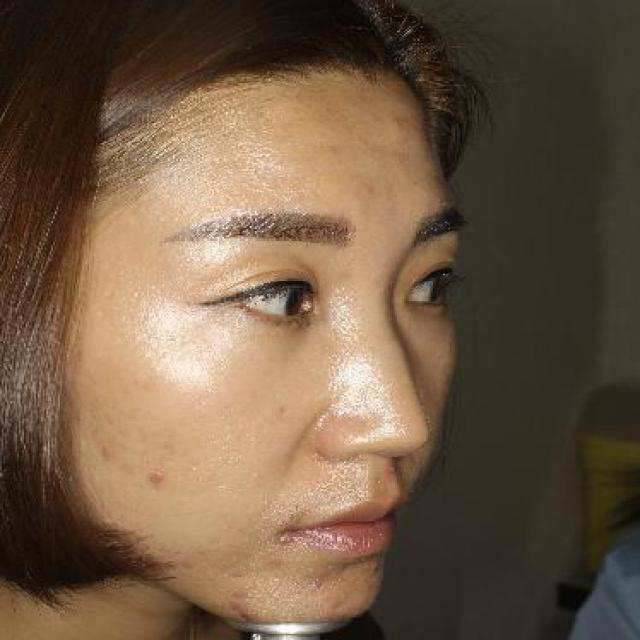papules: (142, 460, 169, 495), (303, 572, 330, 596), (268, 529, 298, 549)
